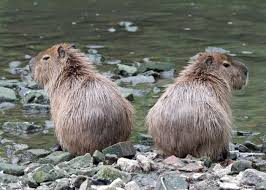capivara: (29, 43, 136, 154), (143, 49, 249, 159)
